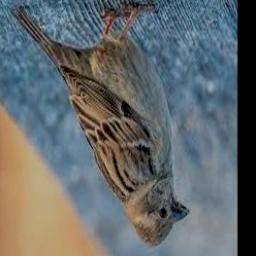Sparrow: (12, 4, 190, 248)
